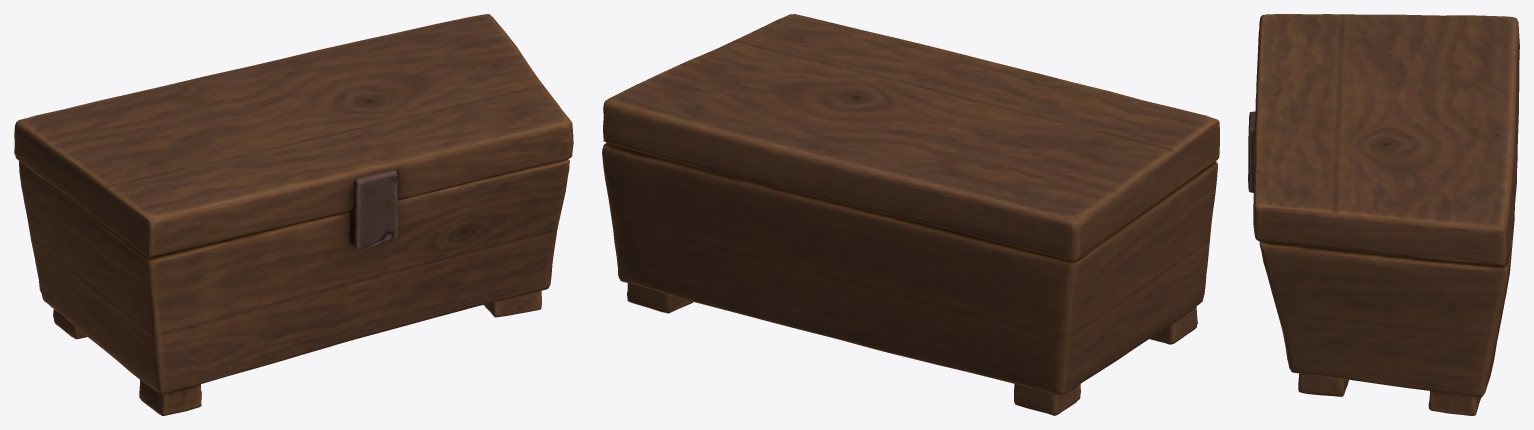
The model's file is sumicio_arcon_aprendiz.glb.
3 views of the same model, side by side, from view 1: azimuth 30°, elevation 25°; view 2: azimuth 150°, elevation 25°; view 3: azimuth 270°, elevation 25° (orthographic). The views are drawn at different scales.
Parts seen in each view (by area): view 1: ArconAprendiz; view 2: ArconAprendiz; view 3: ArconAprendiz.
Boxes of the visible parts, box(x1,y1,x2,y2) form: ArconAprendiz: box(14, 14, 573, 415); ArconAprendiz: box(602, 14, 1219, 415); ArconAprendiz: box(1248, 14, 1519, 415).
Size of the model in its own units: 1 by 0.4243 by 0.5382.
Materials: 1 (1 with a texture image).
